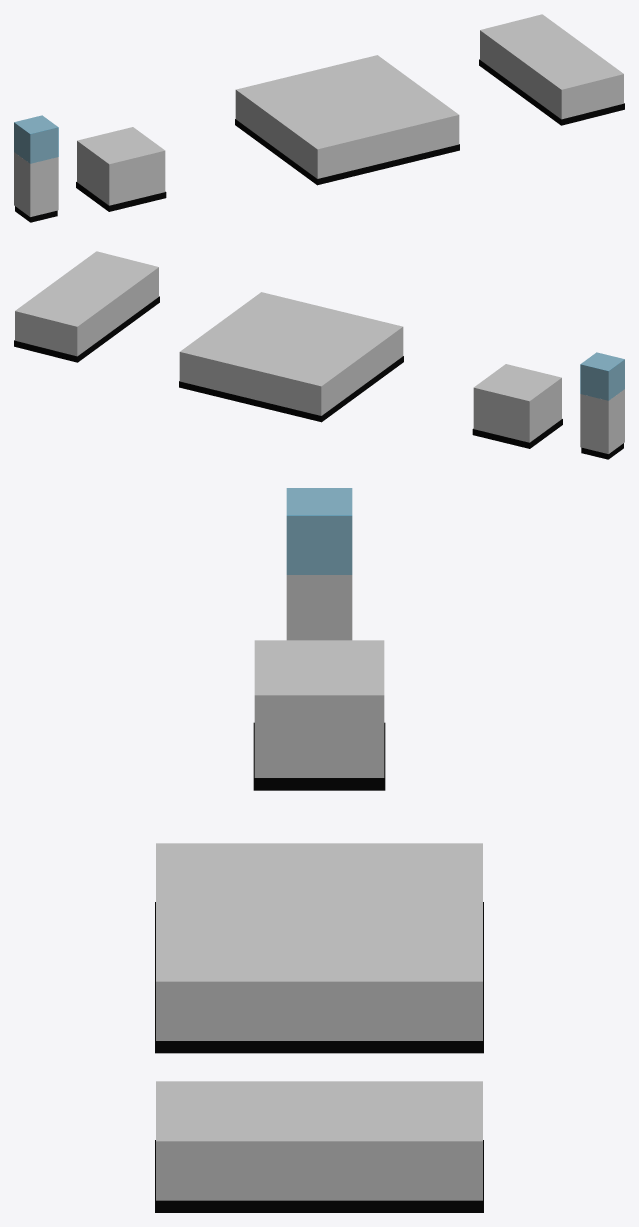
The model's file is Display Cases.fbx.
3 renders of one model, top to bottom at view 1: azimuth 30°, elevation 25°; view 2: azimuth 150°, elevation 25°; view 3: azimuth 270°, elevation 25°, orthographic. The views are drawn at different scales.
Visible parts, largest first — view 1: Display_Case_3, Display_Case_4, Display_Case_2, Display_Case_1, Glass; view 2: Display_Case_3, Display_Case_4, Display_Case_2, Display_Case_1, Glass; view 3: Display_Case_3, Display_Case_4, Display_Case_2, Glass, Display_Case_1.
Boxes of the visible parts, <box> form: Display_Case_3: <box>235,55,459,185</box>; Display_Case_4: <box>479,14,624,125</box>; Display_Case_2: <box>76,127,166,211</box>; Display_Case_1: <box>14,152,58,222</box>; Glass: <box>14,115,58,163</box>; Display_Case_3: <box>179,292,403,422</box>; Display_Case_4: <box>14,251,159,362</box>; Display_Case_2: <box>472,364,562,448</box>; Display_Case_1: <box>580,389,624,459</box>; Glass: <box>580,352,624,400</box>; Display_Case_3: <box>155,843,483,1053</box>; Display_Case_4: <box>155,1081,483,1212</box>; Display_Case_2: <box>253,640,385,790</box>; Glass: <box>286,488,352,574</box>; Display_Case_1: <box>286,575,352,640</box>.
Size of the model in its own units: 993 by 150 by 252.
